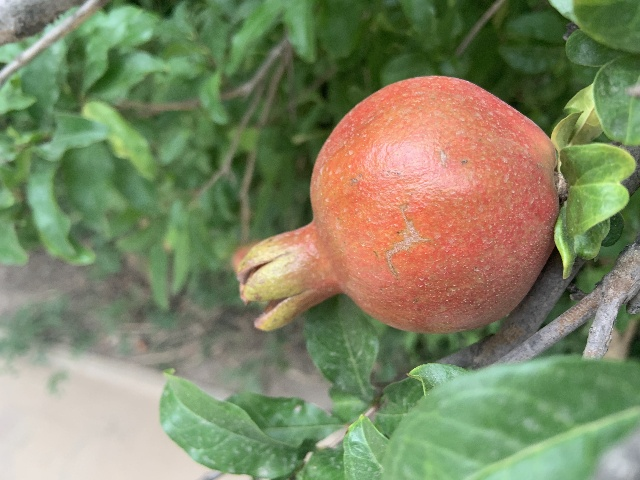ripe: (235, 74, 559, 333)
